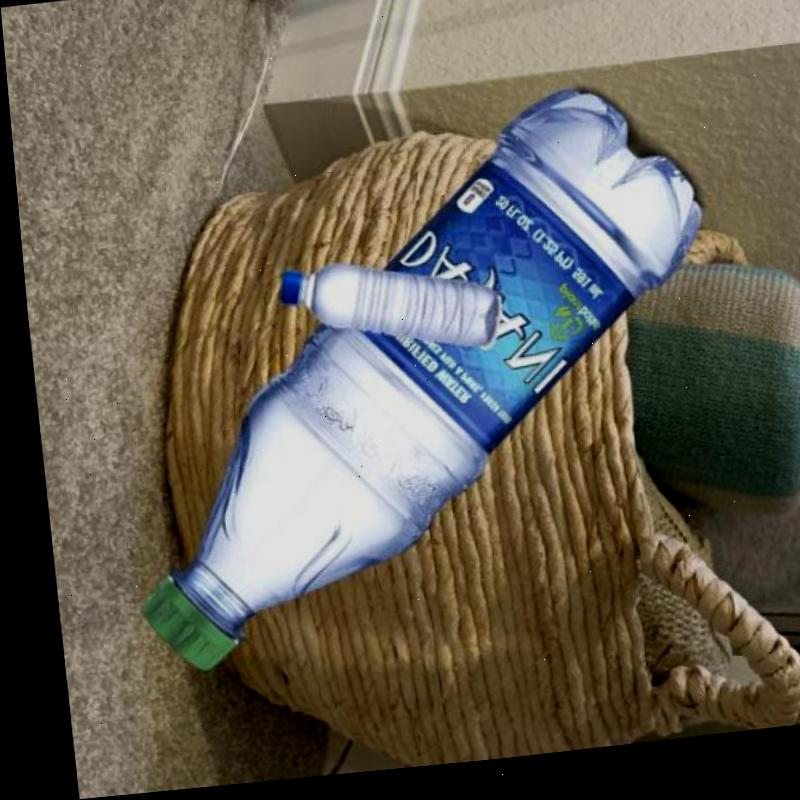botella: (87, 89, 729, 683), (265, 250, 495, 376)
